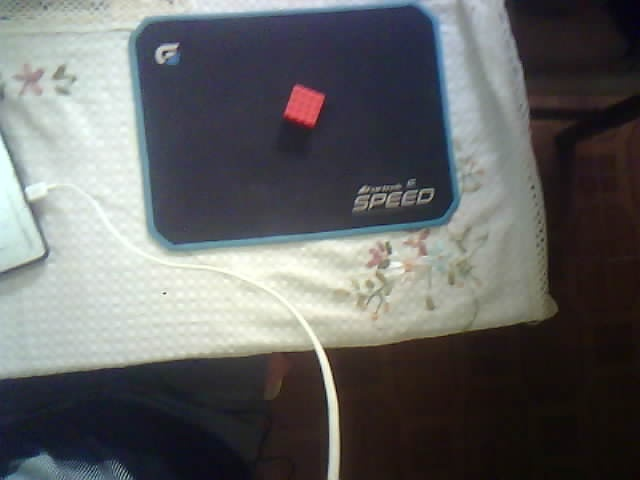lego: (281, 82, 325, 130)
